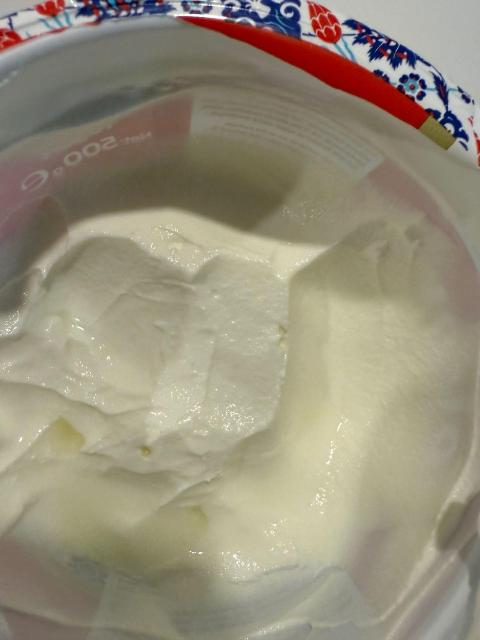Organik: (65, 209, 352, 465)
